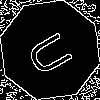U: (25, 25, 83, 79)
